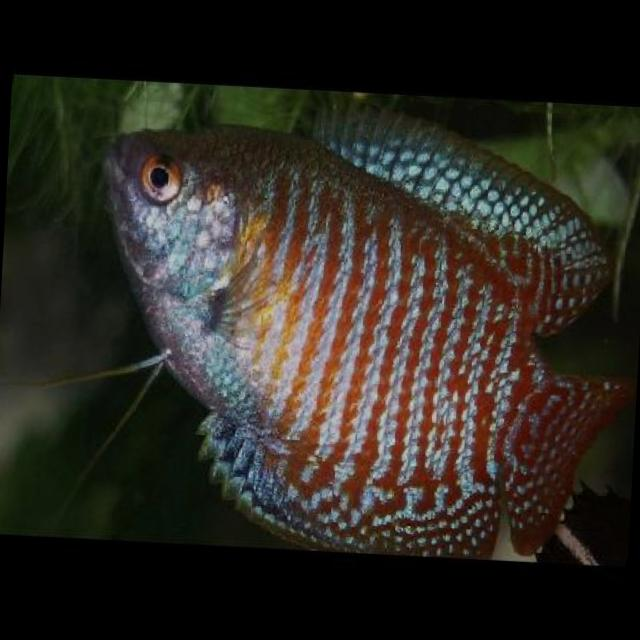Gourami: (85, 77, 638, 564)
